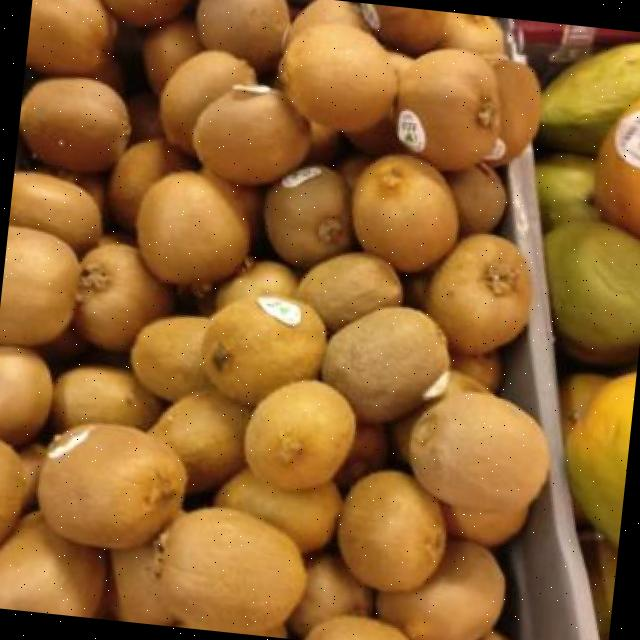kiwi: (160, 508, 306, 635), (38, 427, 186, 549), (406, 393, 548, 510), (321, 310, 449, 423), (136, 171, 256, 284), (422, 233, 531, 355), (337, 470, 446, 591), (203, 296, 325, 404), (396, 48, 500, 170), (282, 22, 397, 132), (352, 154, 458, 272), (378, 542, 502, 640), (192, 84, 311, 185), (246, 380, 354, 490), (0, 512, 105, 617), (73, 243, 173, 350), (149, 389, 250, 493), (217, 468, 341, 552), (21, 81, 130, 172), (160, 50, 256, 153), (0, 224, 79, 346), (264, 166, 352, 266), (297, 253, 402, 330), (110, 137, 197, 229), (8, 171, 102, 253), (51, 366, 163, 431), (288, 553, 371, 637), (25, 0, 114, 75), (197, 0, 290, 71), (131, 317, 209, 401), (111, 538, 172, 626), (492, 60, 540, 163), (0, 346, 50, 444), (144, 17, 201, 94), (445, 164, 505, 235), (218, 261, 296, 309), (373, 4, 445, 54), (443, 504, 526, 546), (290, 0, 369, 40), (442, 13, 503, 58), (304, 616, 407, 640), (0, 441, 25, 537), (104, 0, 186, 26)
